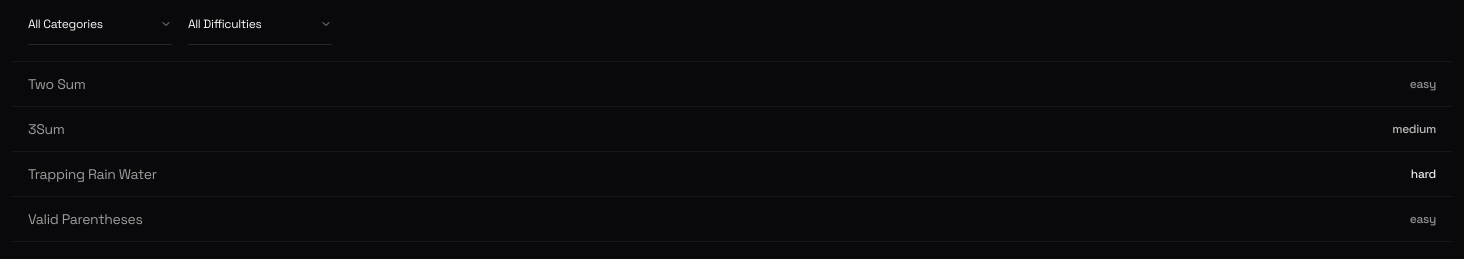
ProblemSelector › filters by category
The image size is (1464, 259).
Click the dropdown labelled "All Categories": x=100, y=30 [28,16,172,45]
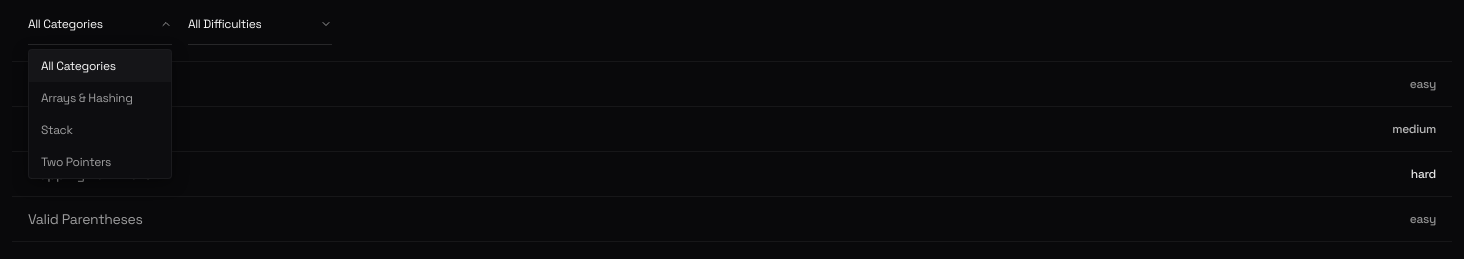
Click the option "Two Pointers": x=76, y=162 [41,154,111,170]
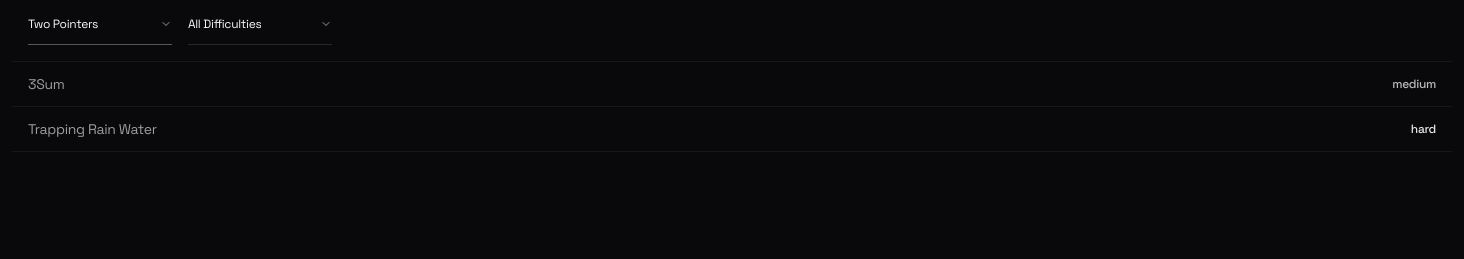
Expected: the text "3Sum" is shown, [28,74,64,94]
Result: the button "Two Sum" is gone
Result: the button "Valid Parentheses" is gone
